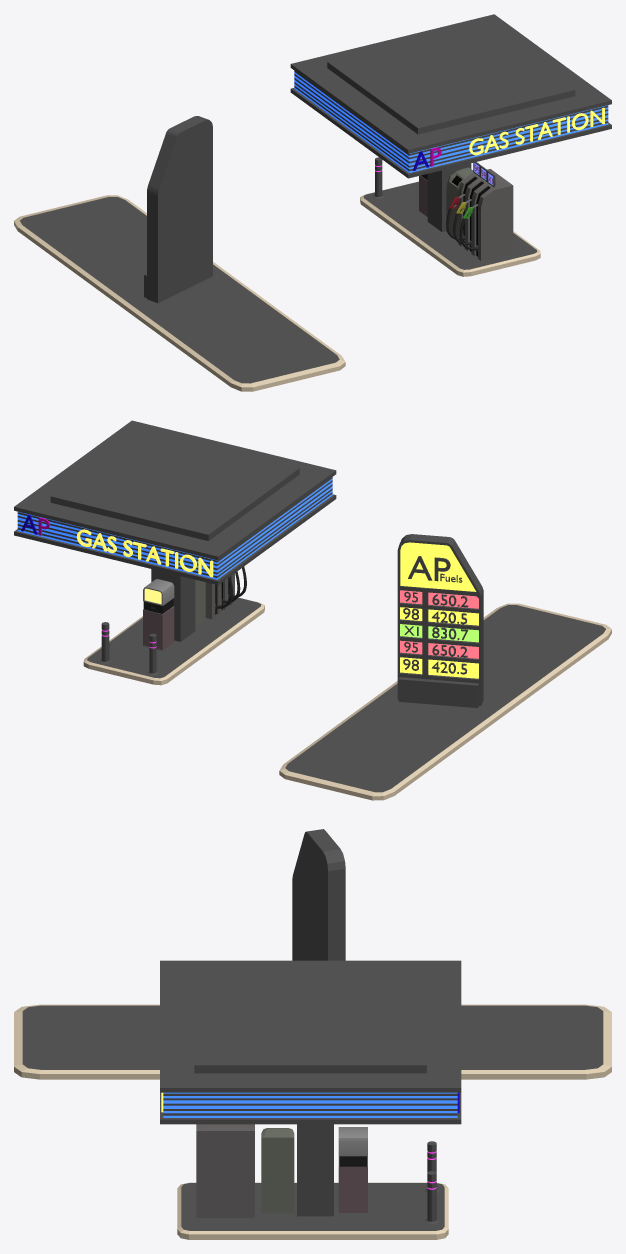
File: gasolinera.fbx
3 renders of one model, top to bottom at view 1: azimuth 30°, elevation 25°; view 2: azimuth 150°, elevation 25°; view 3: azimuth 270°, elevation 25°, orthographic. The views are drawn at different scales.
Parts seen in each view (by area): view 1: Cylinder.002, Cylinder.001, Text.007; view 2: Cylinder.002, Cylinder.001, Text.007; view 3: Cylinder.002, Cylinder.001, Text.007.
Part boxes in pixels (x1=…): Cylinder.002: x1=290, y1=14, x2=611, y2=276; Cylinder.001: x1=14, y1=195, x2=345, y2=391; Text.007: x1=144, y1=116, x2=212, y2=303; Cylinder.002: x1=14, y1=420, x2=336, y2=685; Cylinder.001: x1=279, y1=603, x2=611, y2=800; Text.007: x1=397, y1=534, x2=483, y2=707; Cylinder.002: x1=160, y1=960, x2=461, y2=1239; Cylinder.001: x1=14, y1=1004, x2=611, y2=1079; Text.007: x1=292, y1=829, x2=345, y2=960.
Size of the model in its own units: 862 by 318 by 814.
